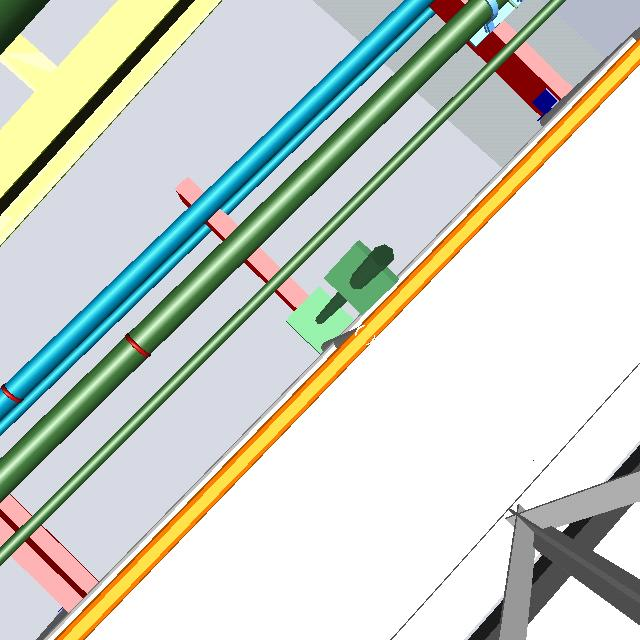Poste: (285, 234, 409, 355)
